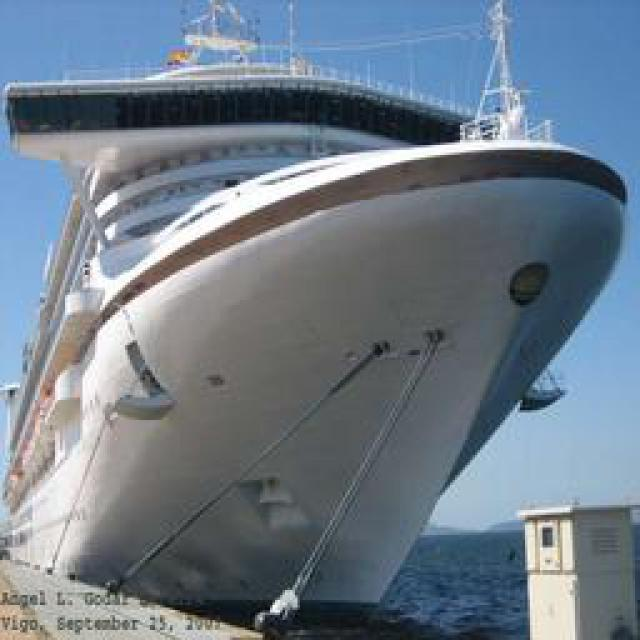Ship: (10, 113, 633, 628)
